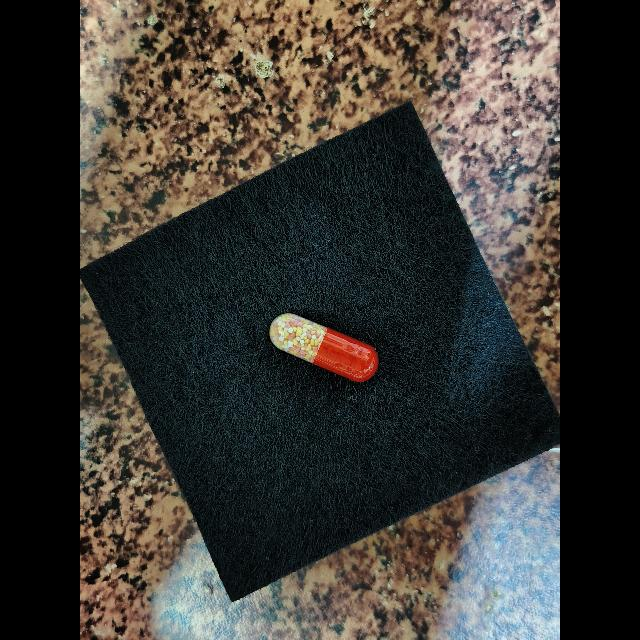Intact Capsule: (270, 313, 379, 382)
